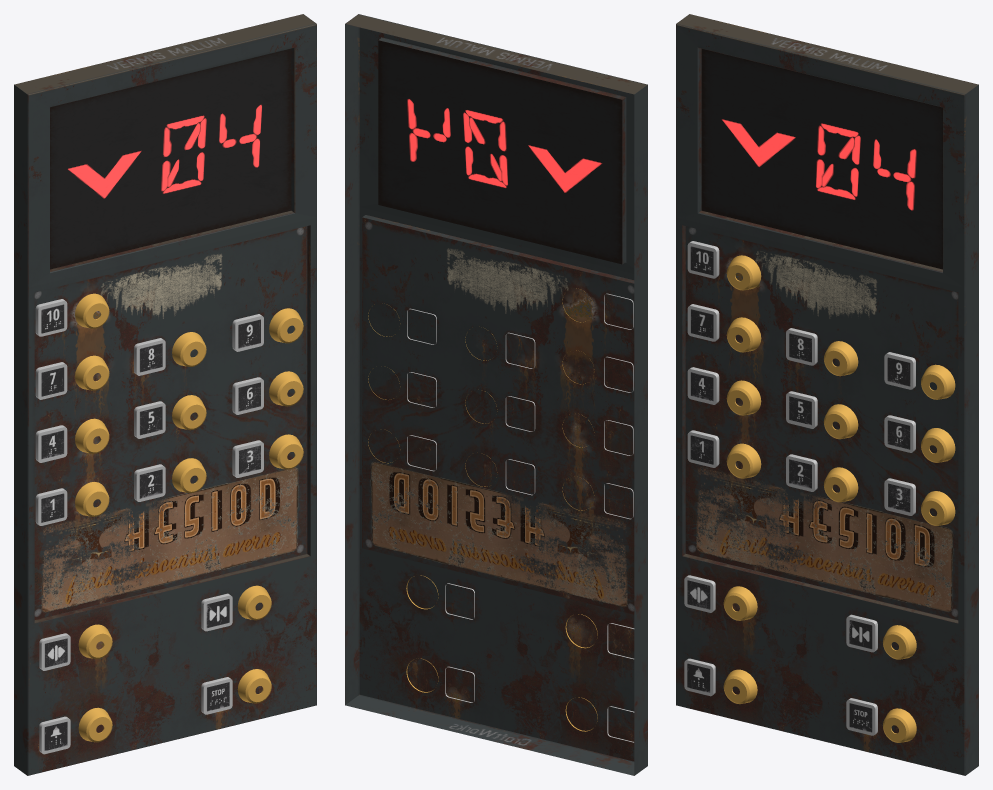
Rendered from VM-ElevatorPanel.fbx.
3 views of the same model, side by side, from view 1: azimuth 30°, elevation 25°; view 2: azimuth 150°, elevation 25°; view 3: azimuth 330°, elevation 25° (orthographic).
Parts seen in each view (by area): view 1: Display, Elevator Buttons.006, Elevator Buttons, Elevator Buttons.009, Elevator Buttons.003, Elevator Buttons.005, Elevator Buttons.004, Elevator Buttons.008, Elevator Buttons.011, Elevator Buttons.001, Elevator Buttons.002, Elevator Buttons.007 (+17 smaller); view 2: Display; view 3: Display, Elevator Buttons.003, Elevator Buttons.006, Elevator Buttons.009, Elevator Buttons, Elevator Buttons.008, Elevator Buttons.001, Elevator Buttons.002, Elevator Buttons.004, Elevator Buttons.007, Elevator Buttons.005, Elevator Buttons.012 (+17 smaller).
Part boxes in pixels (<box>): Display: <box>14,14,316,775</box>; Elevator Buttons.006: <box>35,362,67,399</box>; Elevator Buttons: <box>35,488,67,525</box>; Elevator Buttons.009: <box>35,299,67,336</box>; Elevator Buttons.003: <box>35,425,67,462</box>; Elevator Buttons.005: <box>232,377,263,414</box>; Elevator Buttons.004: <box>134,401,165,438</box>; Elevator Buttons.008: <box>232,314,263,351</box>; Elevator Buttons.011: <box>201,593,232,631</box>; Elevator Buttons.001: <box>134,464,165,501</box>; Elevator Buttons.002: <box>232,440,263,477</box>; Elevator Buttons.007: <box>134,338,165,375</box>; Display: <box>345,14,647,775</box>; Display: <box>676,14,978,775</box>; Elevator Buttons.003: <box>687,367,719,404</box>; Elevator Buttons.006: <box>687,304,719,341</box>; Elevator Buttons.009: <box>687,241,719,278</box>; Elevator Buttons: <box>687,430,719,467</box>; Elevator Buttons.008: <box>884,352,915,389</box>; Elevator Buttons.001: <box>786,454,817,491</box>; Elevator Buttons.002: <box>884,478,915,515</box>; Elevator Buttons.004: <box>786,391,817,428</box>; Elevator Buttons.007: <box>786,328,817,365</box>; Elevator Buttons.005: <box>884,415,915,452</box>; Elevator Buttons.012: <box>684,658,715,696</box>.
Bounding box in the file's own units: 48 × 108 × 5.73.
